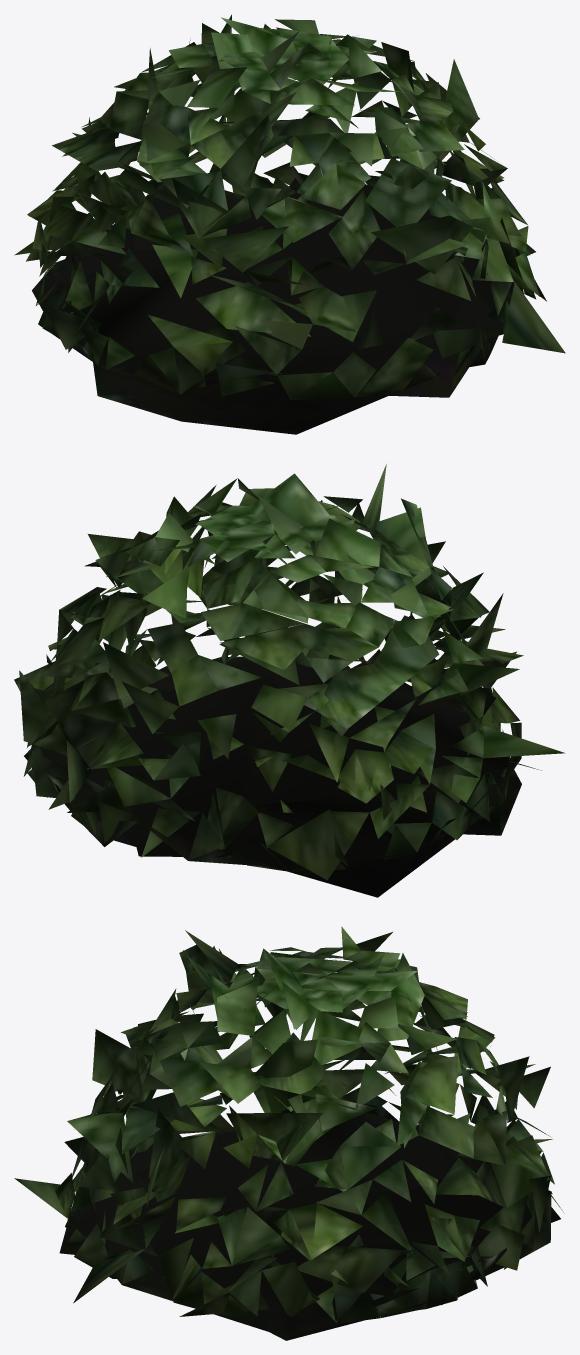
Rendered from bush-1.lod1.glb.
3 renders of one model, top to bottom at view 1: azimuth 30°, elevation 25°; view 2: azimuth 150°, elevation 25°; view 3: azimuth 270°, elevation 25°, orthographic.
Visible parts, largest first — view 1: terrain-bush-1; view 2: terrain-bush-1; view 3: terrain-bush-1.
Part boxes in pixels (left/top/right/bottom): terrain-bush-1: left=14, top=14, right=565, bottom=434; terrain-bush-1: left=14, top=464, right=565, bottom=897; terrain-bush-1: left=14, top=926, right=564, bottom=1340.
Size of the model in its own units: 0.3211 by 0.1975 by 0.3233.
Materials: 1 (1 with a texture image).
